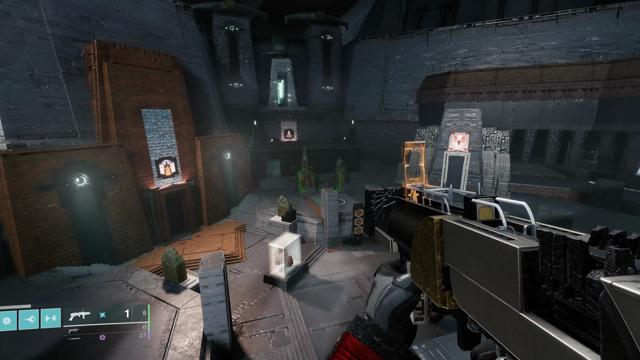enter: (285, 130, 293, 138)
worship: (159, 160, 176, 176), (452, 135, 466, 148)
